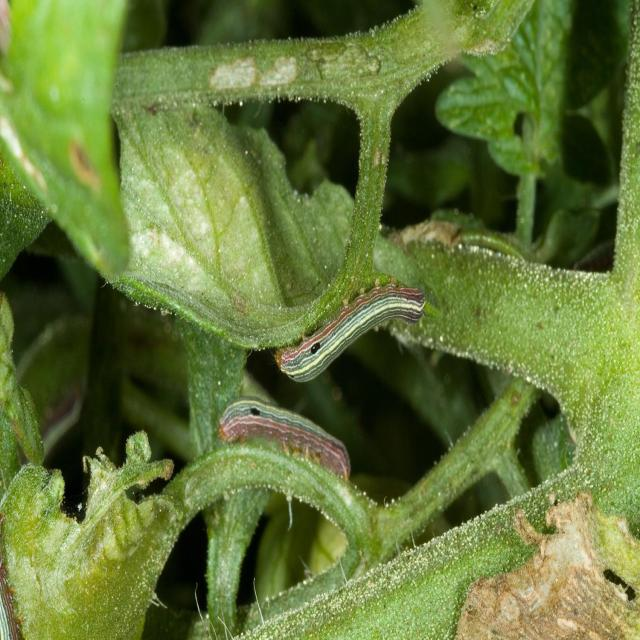army worm: (270, 280, 433, 387), (217, 393, 353, 486)
